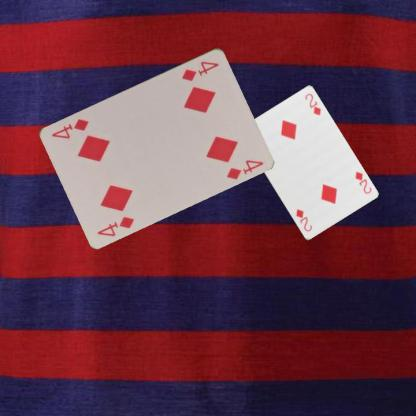2d: (352, 169, 372, 195)
4d: (94, 213, 136, 238), (179, 58, 220, 82)
